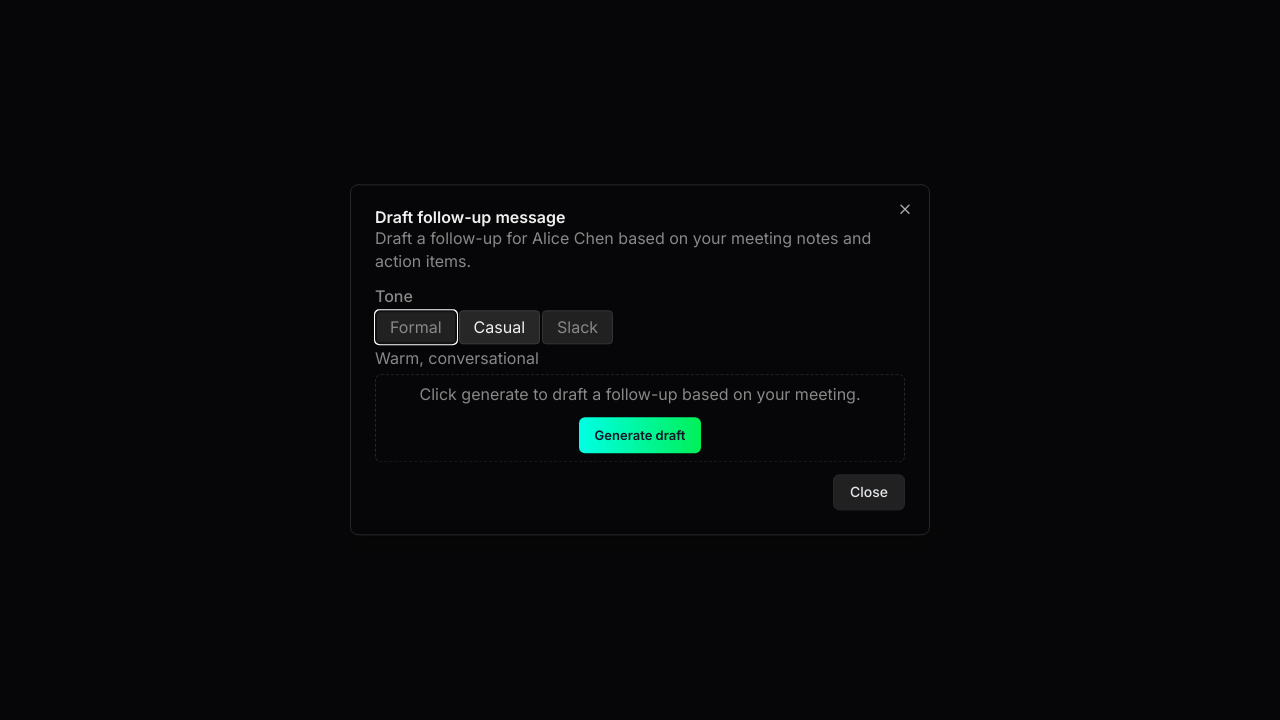
Test case: FollowUpDraftModal › switches to slack description when slack is selected
Click the button "Slack". click: (578, 327)
box: [542,310,613,344]
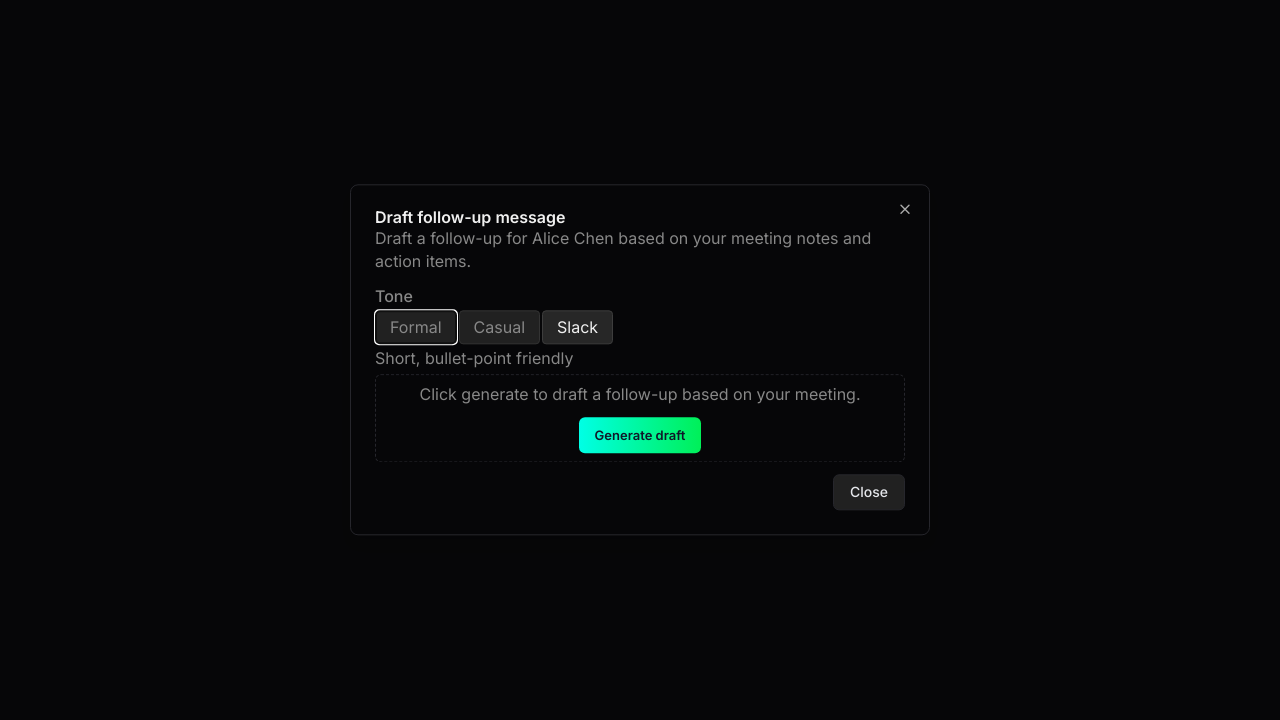
Expected: the text "Short, bullet-point friendly" is shown, [375,348,574,368]
